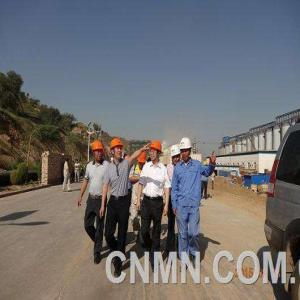white: (180, 136, 193, 164), (170, 143, 182, 167)
yellow: (110, 137, 127, 163), (148, 140, 164, 165), (91, 140, 106, 164), (137, 148, 149, 171)
